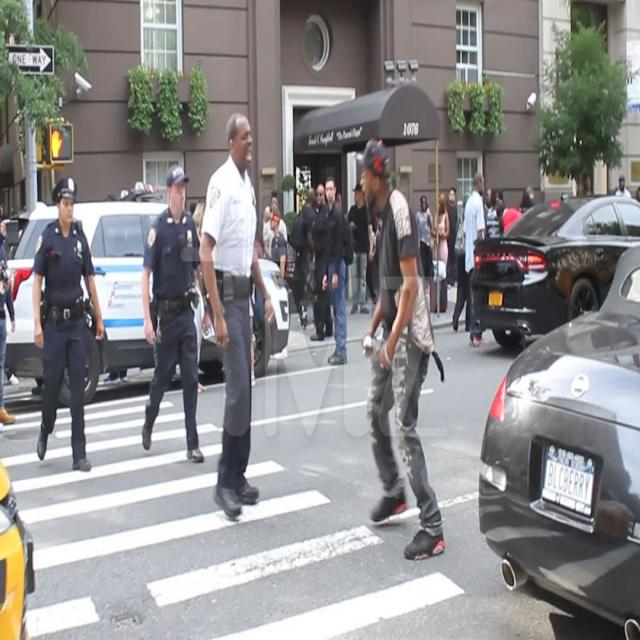body: (352, 134, 448, 563), (196, 110, 276, 521), (33, 172, 106, 473), (140, 160, 210, 465), (320, 176, 348, 366), (462, 168, 487, 348), (308, 182, 334, 341), (346, 182, 374, 316), (292, 187, 318, 331), (0, 216, 17, 426), (452, 190, 472, 334), (429, 192, 450, 294), (269, 208, 296, 286), (262, 188, 289, 258), (415, 192, 436, 276), (444, 186, 460, 290), (486, 182, 537, 211), (496, 201, 524, 237), (190, 190, 208, 238), (373, 212, 382, 300), (614, 172, 632, 196), (483, 188, 492, 228), (253, 233, 264, 261), (261, 201, 271, 221), (635, 183, 640, 203), (336, 188, 341, 206)
